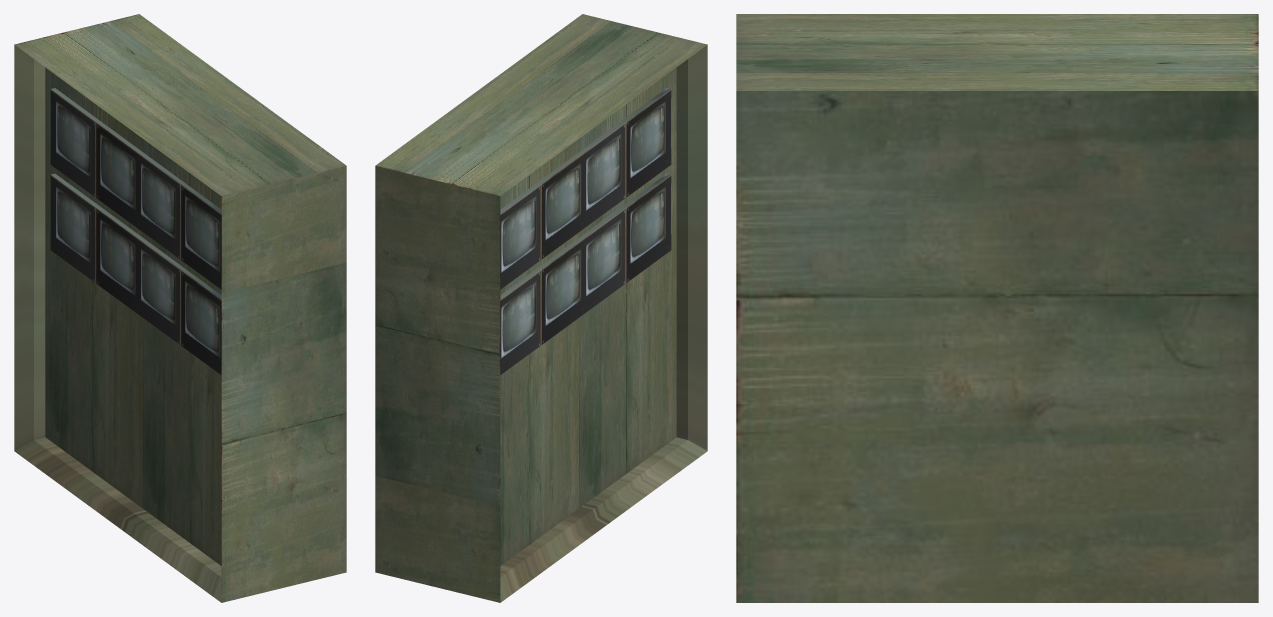
Rendered from telecomunicacoes tvs.fbx.
3 views of the same model, side by side, from view 1: azimuth 30°, elevation 25°; view 2: azimuth 150°, elevation 25°; view 3: azimuth 270°, elevation 25° (orthographic). The views are drawn at different scales.
Parts seen in each view (by area): view 1: pCube142, pCube227, pCube226; view 2: pCube142, pCube227, pCube226; view 3: pCube142.
Boxes of the visible parts, left/top/right/bottom form: pCube142: left=14, top=14, right=346, bottom=602; pCube227: left=50, top=173, right=221, bottom=375; pCube226: left=50, top=88, right=221, bottom=289; pCube142: left=375, top=14, right=707, bottom=602; pCube227: left=500, top=173, right=671, bottom=375; pCube226: left=500, top=88, right=671, bottom=289; pCube142: left=736, top=14, right=1258, bottom=602.
Bounding box in the file's own units: 70.1 × 218 × 201.
